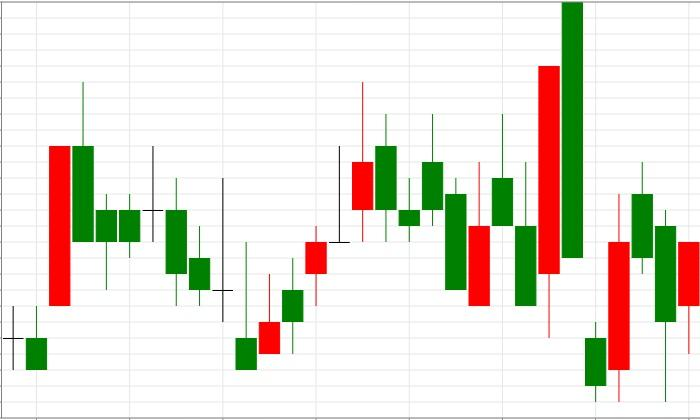inverse_hammer_rise: (72, 82, 257, 371)
